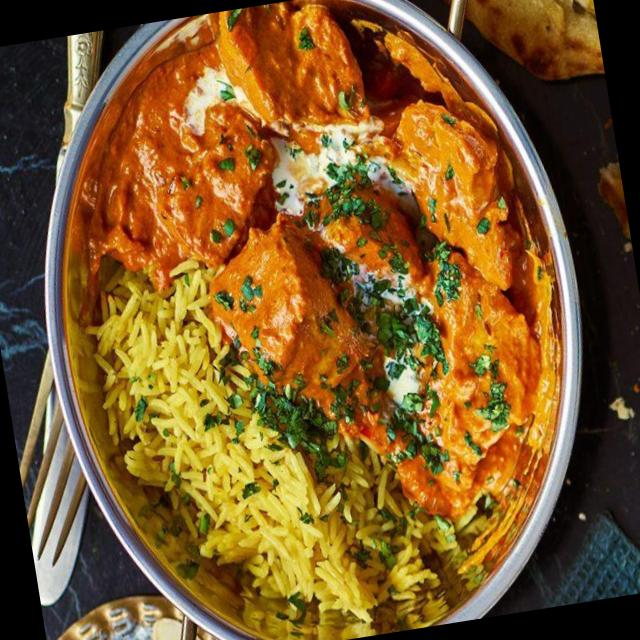chicken: (135, 0, 582, 522)
rice: (91, 264, 467, 601)
